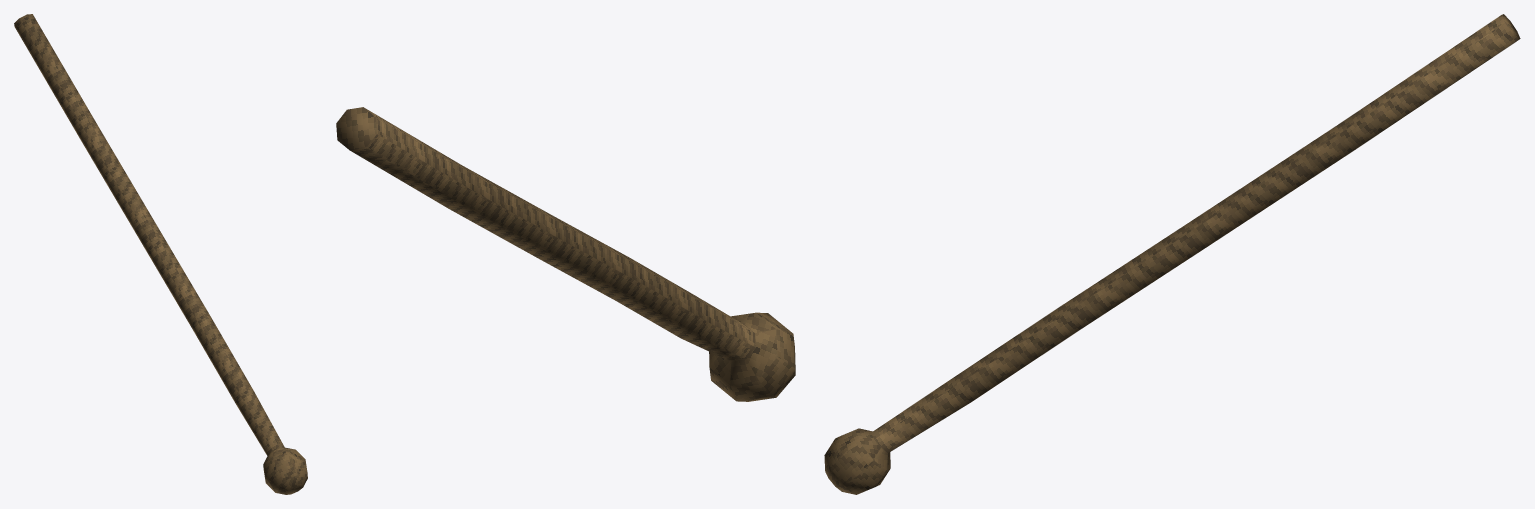
The model's file is RopeEnds.glb.
3 renders of one model, left to right at view 1: azimuth 30°, elevation 25°; view 2: azimuth 150°, elevation 25°; view 3: azimuth 270°, elevation 25°, orthographic. The views are drawn at different scales.
Visible parts, largest first — view 1: BézierCurve.012; view 2: BézierCurve.012; view 3: BézierCurve.012.
Part boxes in pixels (left/top/right/bottom): BézierCurve.012: left=14, top=14, right=307, bottom=494; BézierCurve.012: left=336, top=107, right=795, bottom=401; BézierCurve.012: left=824, top=14, right=1520, bottom=494.
Size of the model in its own units: 0.5694 by 2.78 by 3.85.
1 material, 1 textured.
